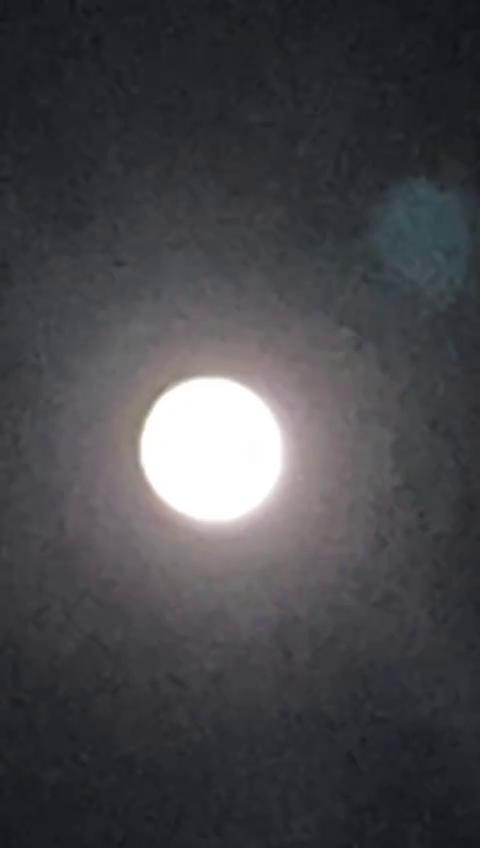moon: (141, 345, 308, 536)
